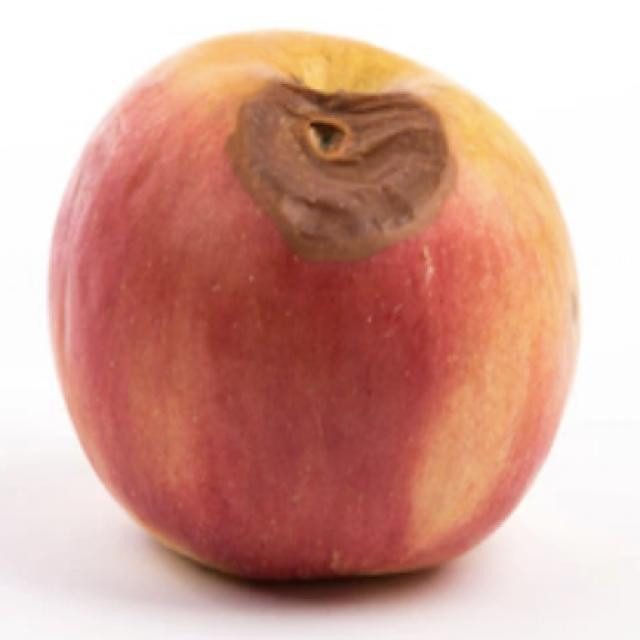Rotten: (45, 25, 578, 582)
